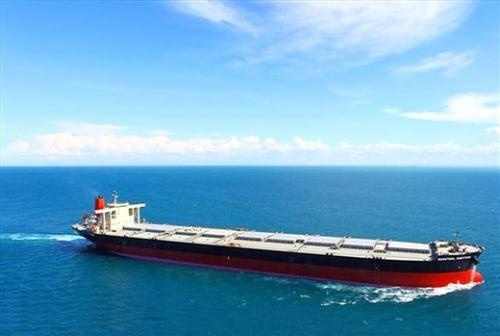Cargoship: (74, 189, 486, 290)
